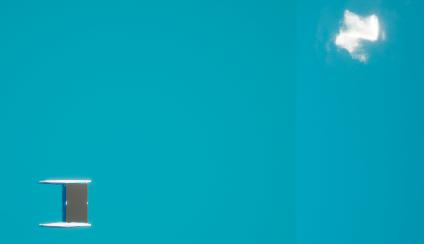boat: (36, 178, 99, 231)
drone: (67, 183, 88, 221)
land_base: (306, 2, 408, 78)
